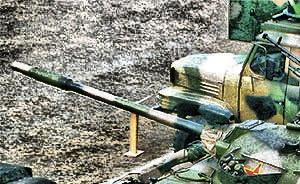tanks: (14, 65, 300, 184)
